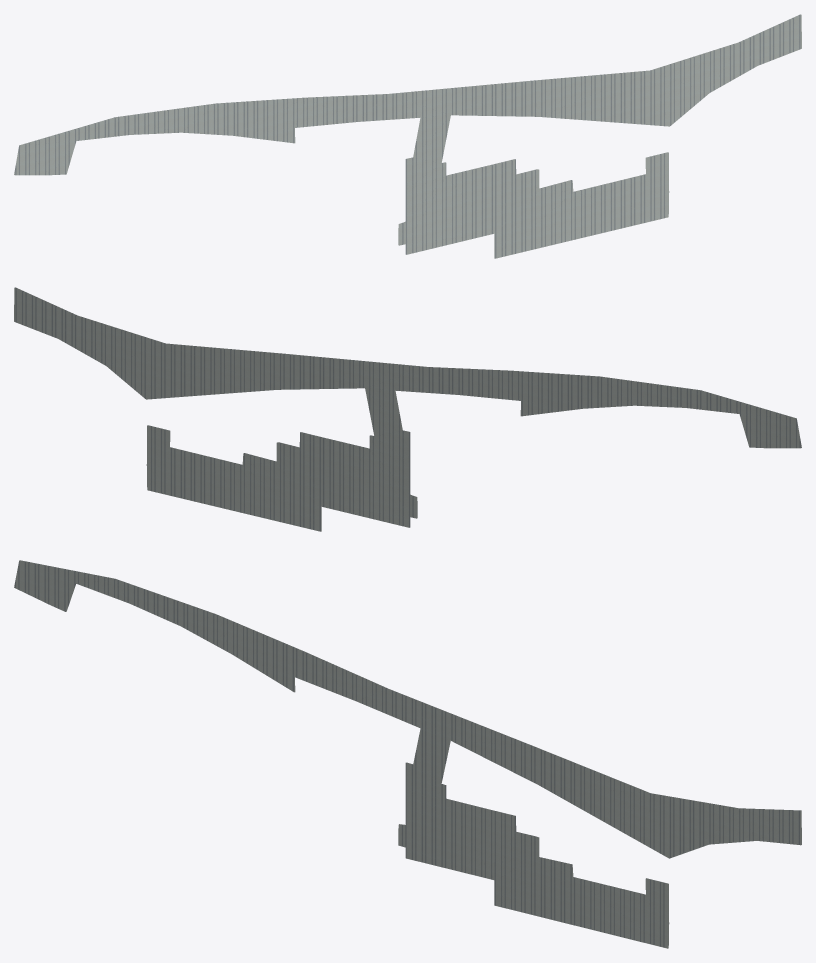
The model's file is floor_66.obj.
The picture shows the model from 3 angles, top to bottom: view 1: azimuth 30°, elevation 25°; view 2: azimuth 150°, elevation 25°; view 3: azimuth 330°, elevation 25°; orthographic projection.
Parts seen in each view (by area): view 1: floor_66; view 2: floor_66; view 3: floor_66.
Boxes of the visible parts, x1,y1,x2,y2 form: floor_66: (14,14,801,258); floor_66: (14,287,801,531); floor_66: (14,560,801,948).
Size of the model in its own units: 79.35 by 22.59 by 0.1.
1 material, 1 textured.
